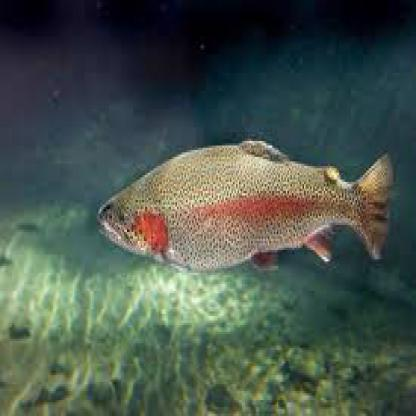fish: (95, 130, 392, 281)
